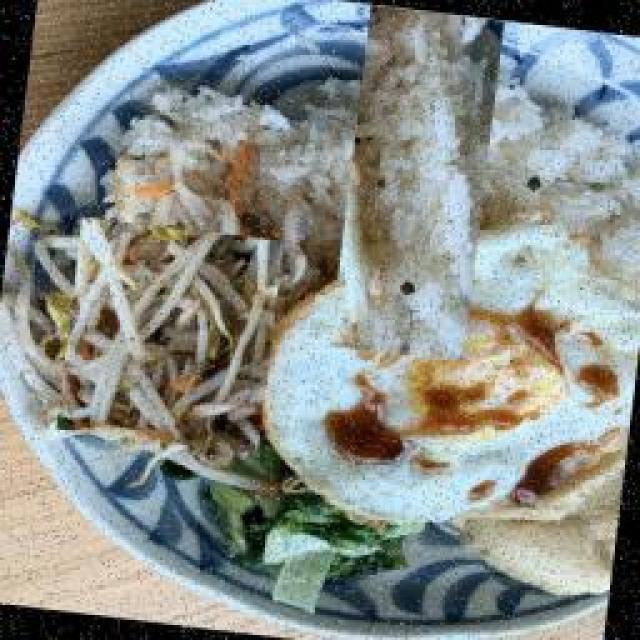fried_eggs: (255, 198, 640, 548)
mung_bean_sprouts: (55, 220, 288, 453)
rice: (280, 35, 558, 313)
